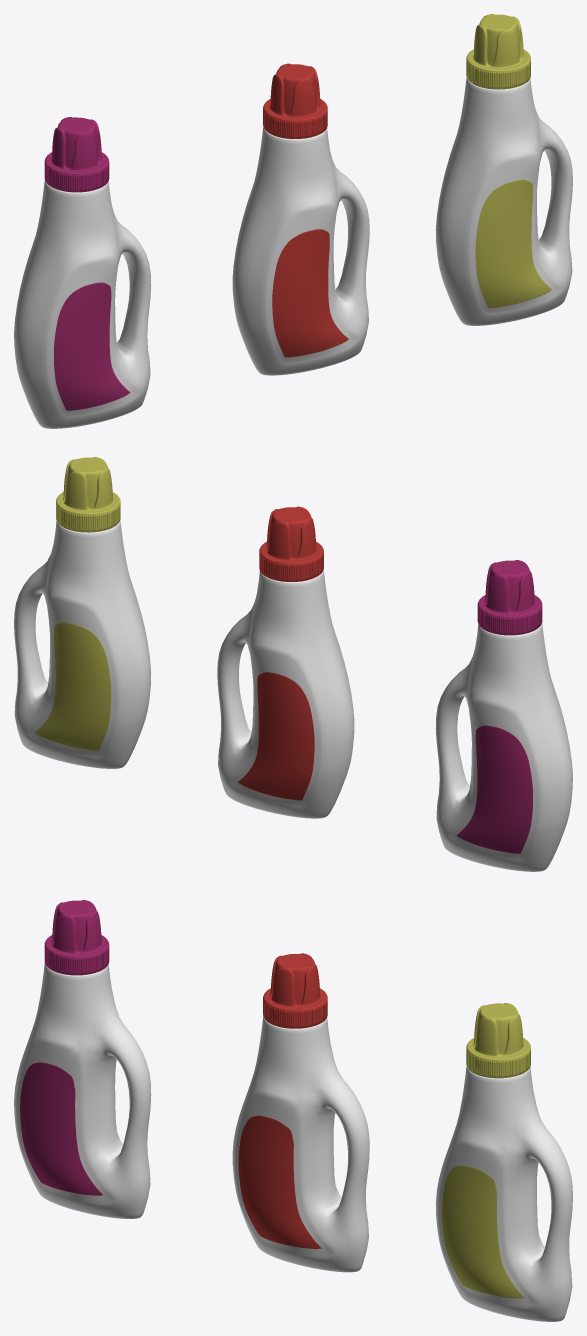
File: washliquid.fbx
3 views of the same model, one above another, from view 1: azimuth 30°, elevation 25°; view 2: azimuth 150°, elevation 25°; view 3: azimuth 330°, elevation 25° (orthographic).
Parts seen in each view (by area): view 1: bottle.003, bottle.002, bottle.001, lid.002, lid.001, lid.003; view 2: bottle.003, bottle.002, bottle.001, lid.002, lid.001, lid.003; view 3: bottle.003, bottle.002, bottle.001, lid.002, lid.001, lid.003.
Part boxes in pixels (bbox=[...]): bottle.003: bbox=[232, 127, 369, 375]; bottle.002: bbox=[14, 180, 151, 428]; bottle.001: bbox=[435, 77, 572, 325]; lid.002: bbox=[44, 117, 109, 192]; lid.001: bbox=[466, 14, 530, 89]; lid.003: bbox=[263, 63, 327, 138]; bottle.003: bbox=[217, 570, 354, 818]; bottle.002: bbox=[435, 623, 572, 871]; bottle.001: bbox=[14, 520, 151, 768]; lid.002: bbox=[477, 560, 542, 635]; lid.001: bbox=[56, 457, 120, 532]; lid.003: bbox=[259, 506, 323, 581]; bottle.003: bbox=[232, 1017, 369, 1272]; bottle.002: bbox=[14, 963, 151, 1218]; bottle.001: bbox=[435, 1066, 572, 1321]; lid.002: bbox=[44, 900, 109, 975]; lid.001: bbox=[466, 1003, 530, 1078]; lid.003: bbox=[263, 953, 327, 1028].
Bounding box in the file's own units: 49.39 × 25.18 × 6.88.
